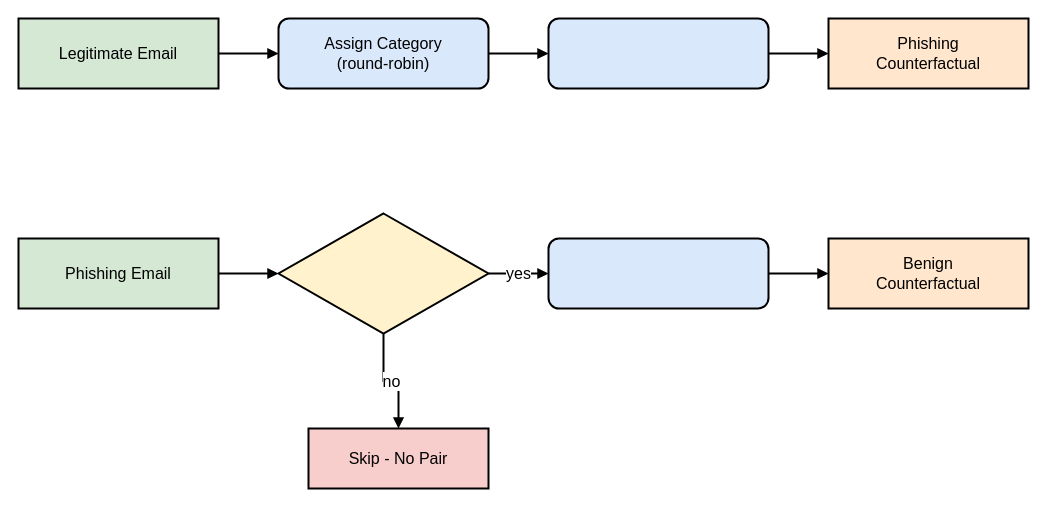
This 1046x506 diagram has some shape labels left out. The centre of each missing label's shape, as x and y in pixels:
"Append Family-A Risky Clause" goes at point (658, 53).
"Matches a category?" goes at point (383, 273).
"Strip Sentence + Neutral Clause" goes at point (658, 273).
